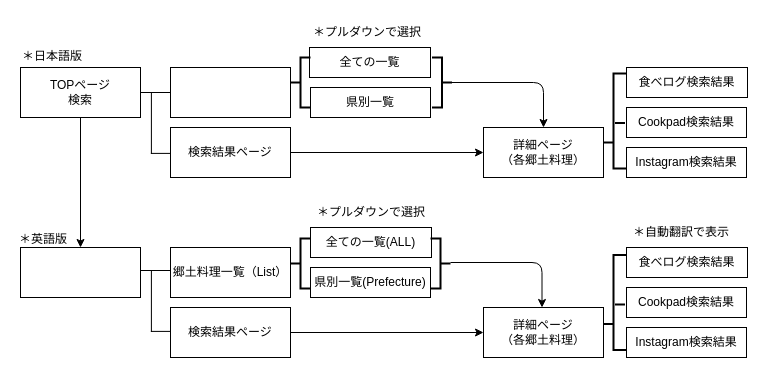
Image size: 765x375. Some labels were removed from this diagram. Here are the shapes that lost their labels. From the top down, the centre of each, then its label:
At point 230,92: "郷土料理一覧ページ".
At point 80,272: "TOPページ（english） 検索".
